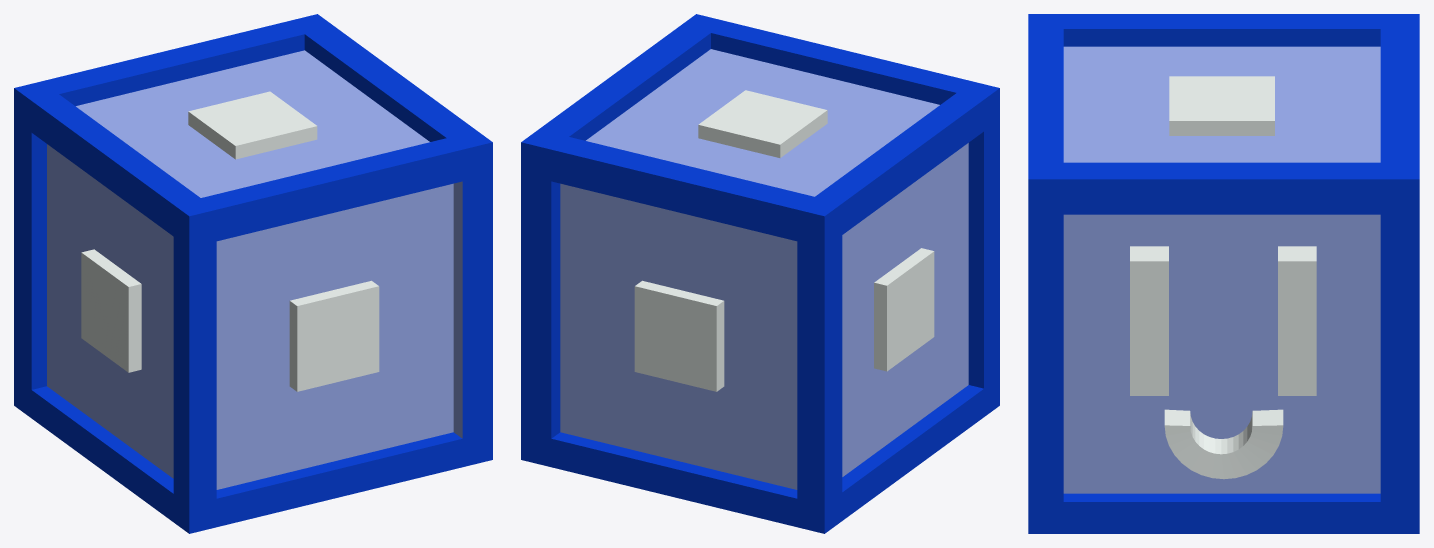
Rendered from GGBlue.fbx.
3 renders of one model, left to right at view 1: azimuth 30°, elevation 25°; view 2: azimuth 150°, elevation 25°; view 3: azimuth 270°, elevation 25°, orthographic. The views are drawn at different scales.
Parts seen in each view (by area): view 1: Body; view 2: Body; view 3: Body, Cube, Cube.001, Circle.
Part boxes in pixels (box(x1,y1,x2,y2)): Body: box(14, 14, 492, 533); Body: box(521, 14, 999, 533); Body: box(1028, 14, 1419, 533); Cube: box(1278, 246, 1316, 395); Cube.001: box(1130, 246, 1168, 395); Circle: box(1164, 409, 1283, 479).
Bounding box in the file's own units: 209 × 200 × 200.
